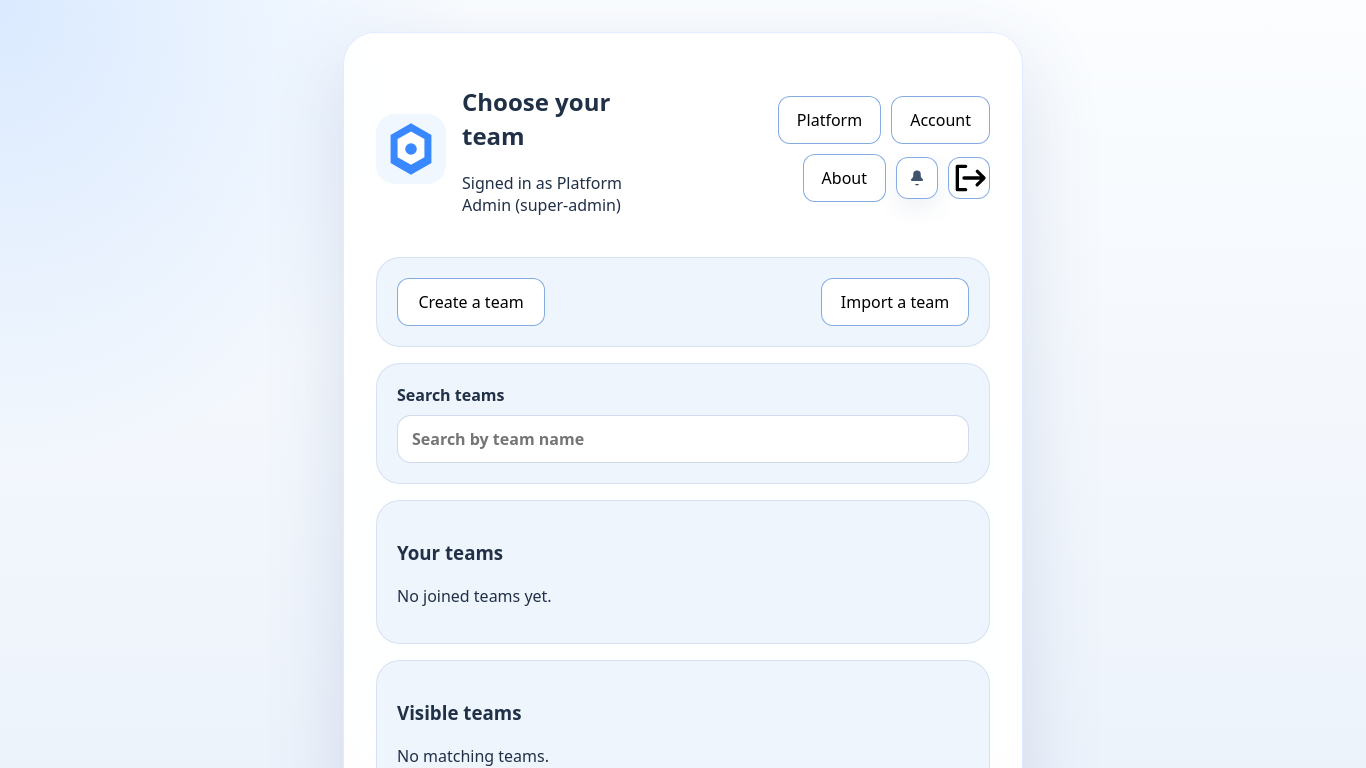
Scenario: App › reveals the stored super-admin password only through the explicit eye control
Step 1. Click the button "Platform" → coordinates (830, 120), box [778,96,881,144]
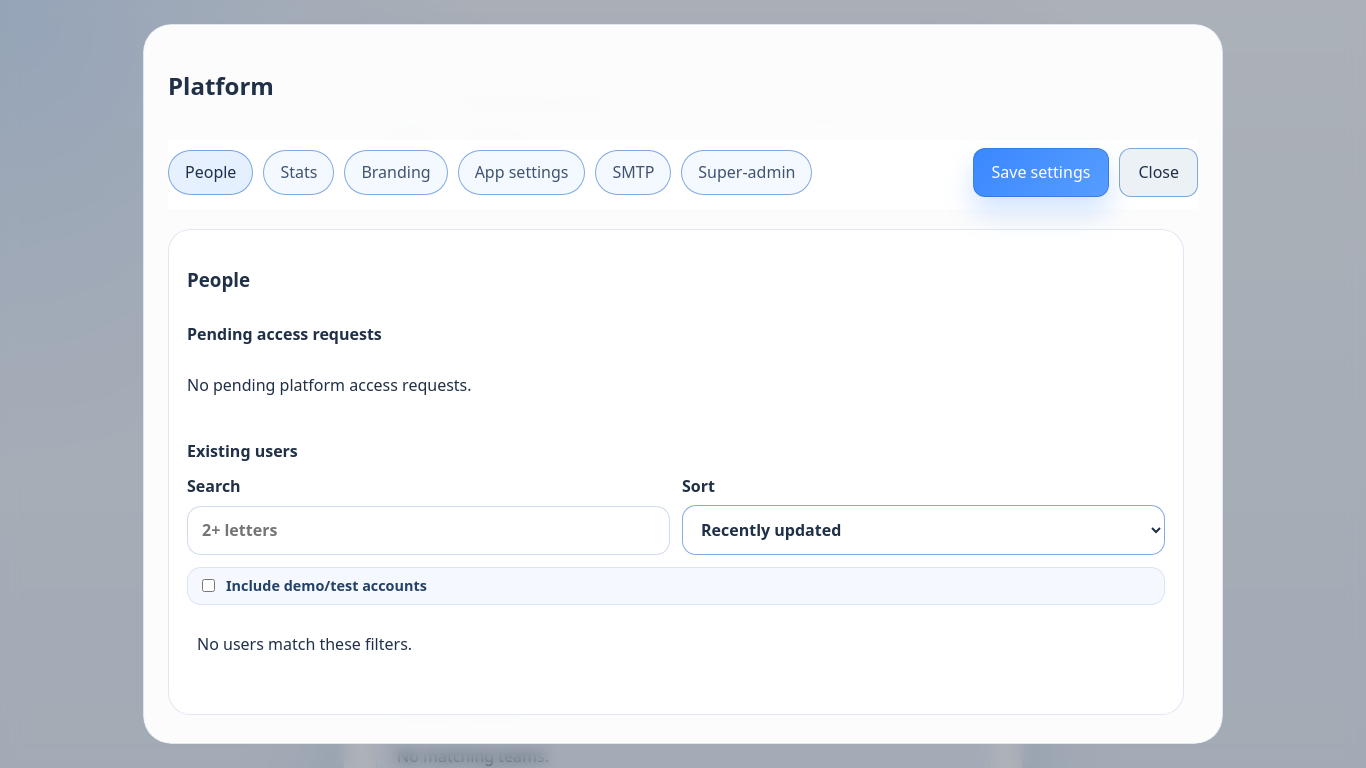
Result: the dialog "Platform" is shown
Step 2. Click the tab "Super-admin" → coordinates (747, 173), box [681,150,812,195]
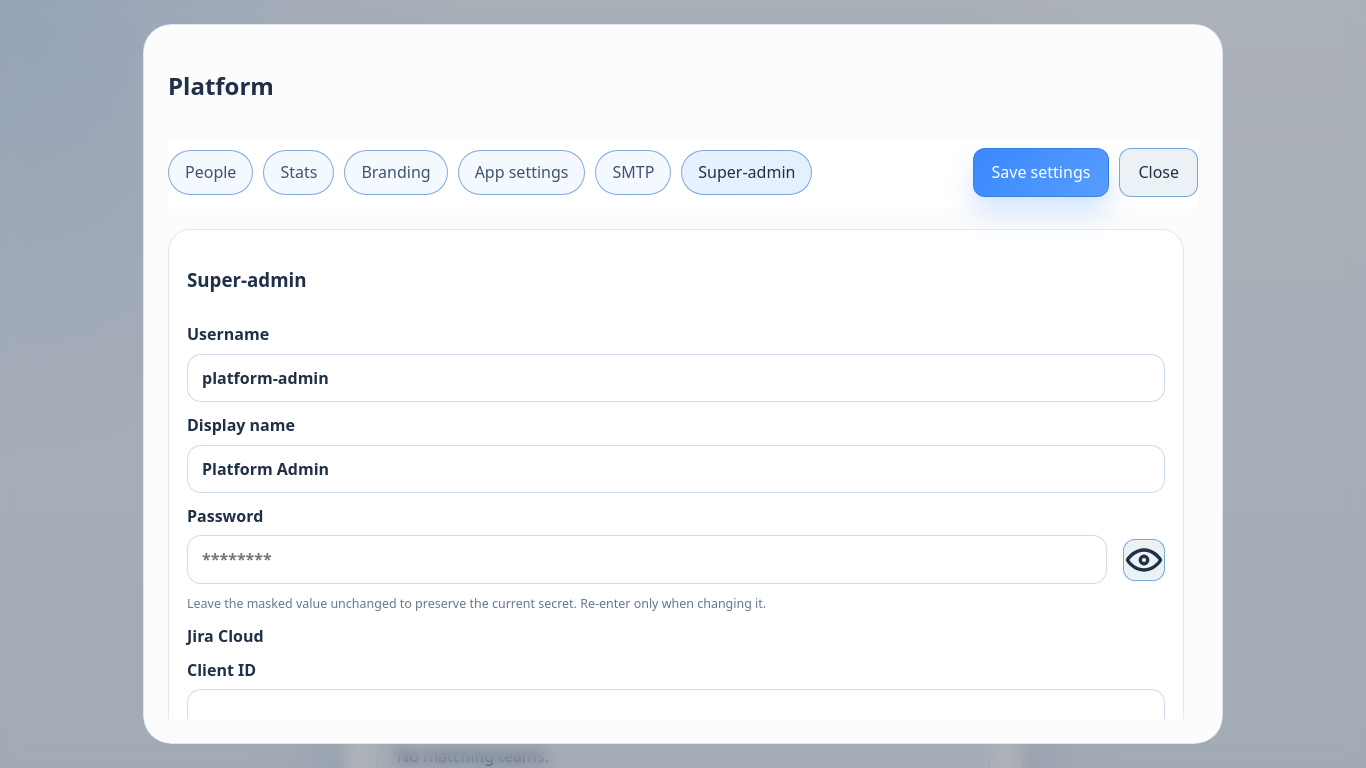
Step 3. Click the button named "Reveal admin password" → coordinates (1144, 560), box [1123,539,1165,581]
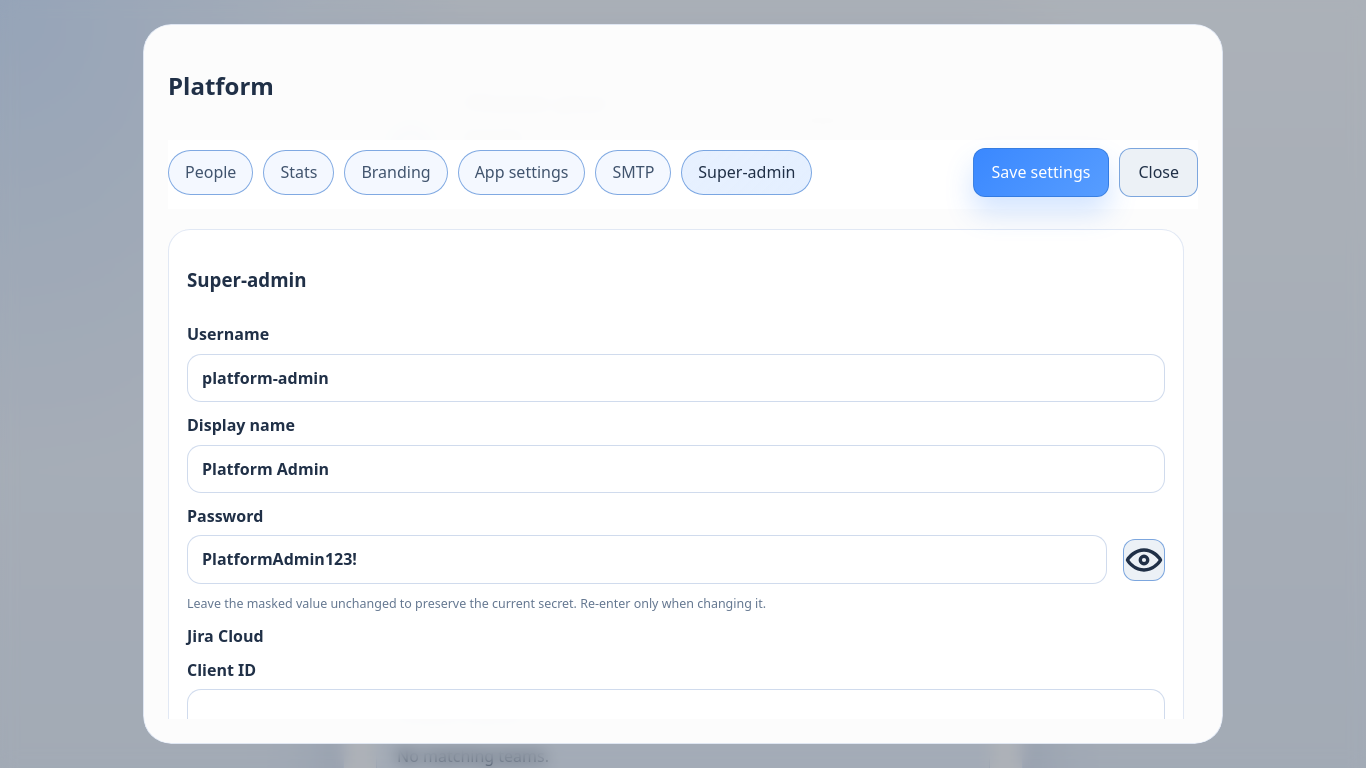
Result: the field showing "PlatformAdmin123!" is shown at [187,535,1107,584]
